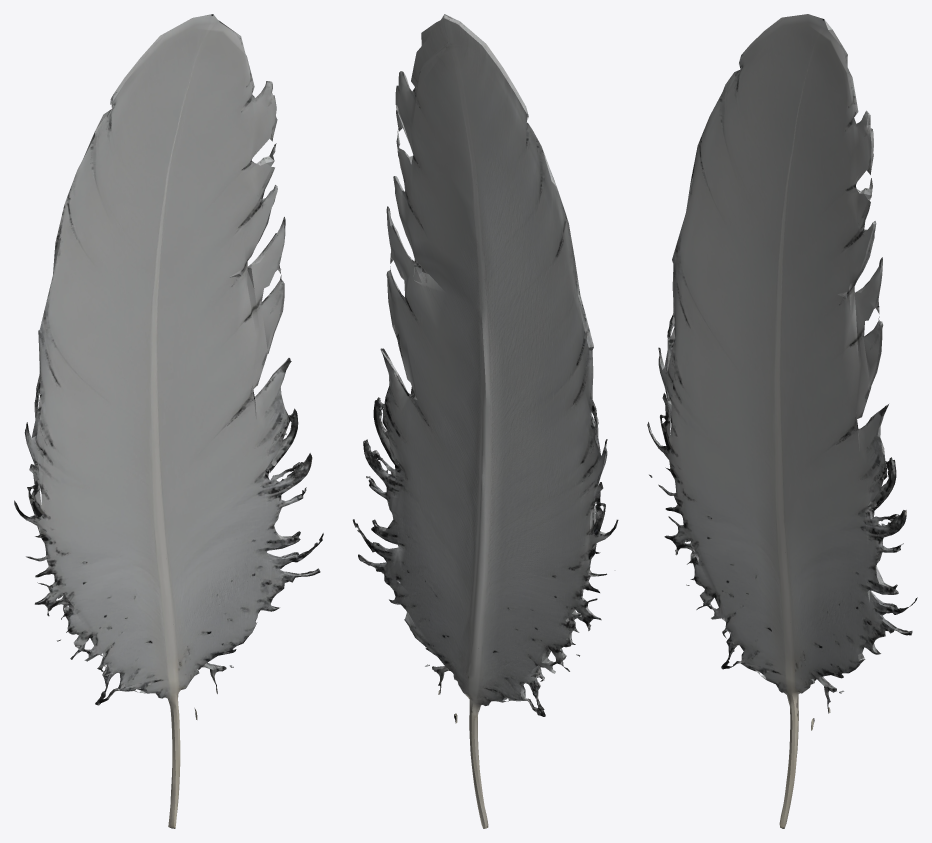
The model's file is featherkb.glb.
The picture shows the model from 3 angles, left to right: view 1: azimuth 30°, elevation 25°; view 2: azimuth 150°, elevation 25°; view 3: azimuth 330°, elevation 25°; orthographic projection.
Parts seen in each view (by area): view 1: Mesh0; view 2: Mesh0; view 3: Mesh0.
Part boxes in pixels (x1=…): Mesh0: x1=14, y1=14, x2=323, y2=828; Mesh0: x1=352, y1=14, x2=618, y2=828; Mesh0: x1=647, y1=14, x2=917, y2=828.
Size of the model in its own units: 0.7456 by 2 by 0.1143.
Materials: 1 (1 with a texture image).
